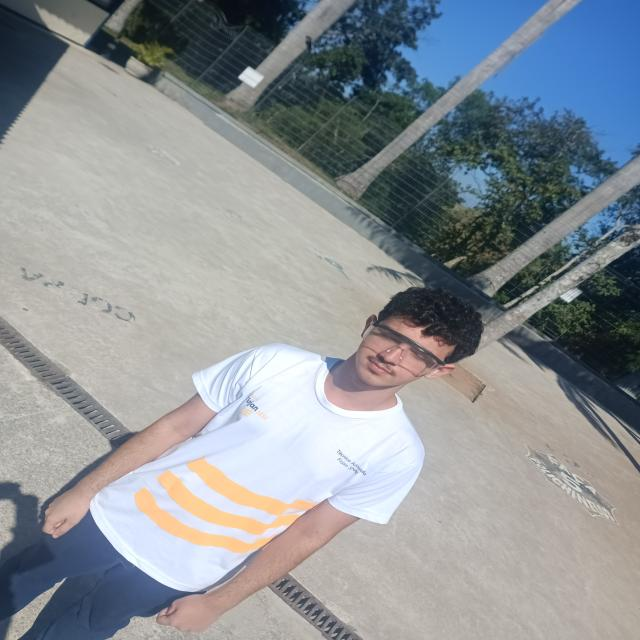oculos-epi: (357, 320, 448, 375)
